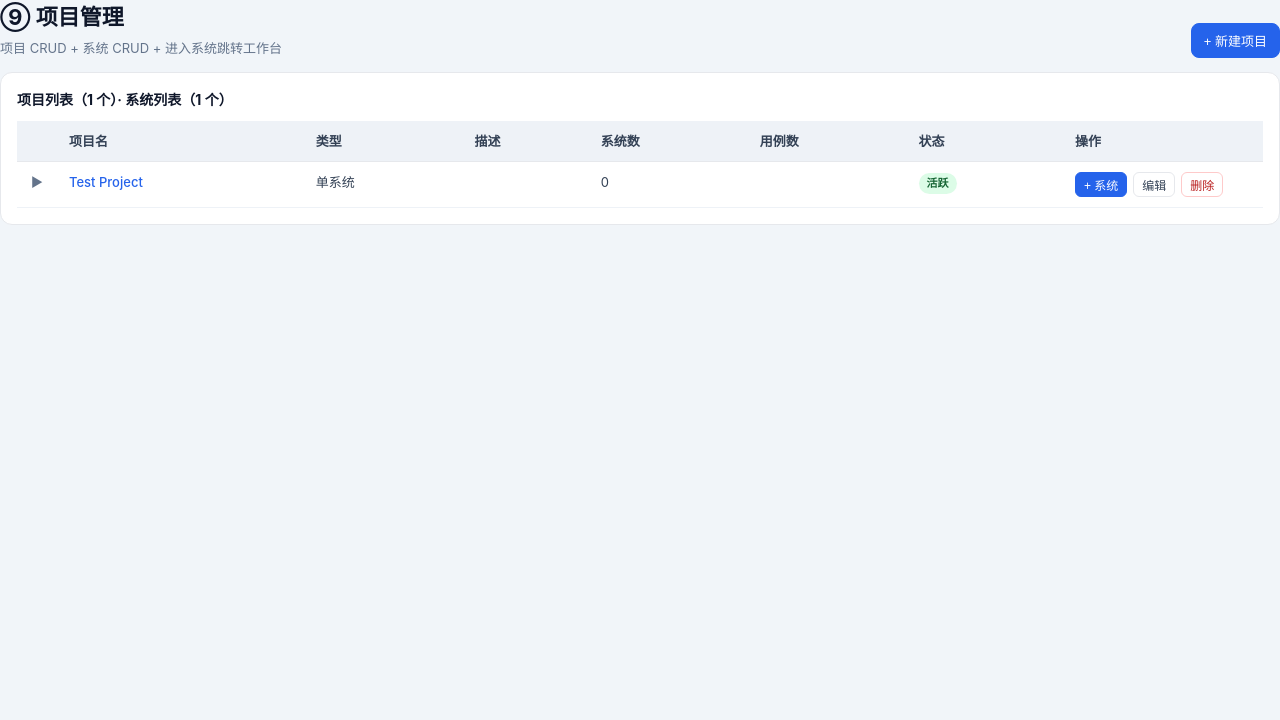
Test: ProjectMgmt 项目管理 › 选择子系统类型应显示父门户选项
Click the button "+ 系统": click(1101, 185) [1075,172,1127,197]
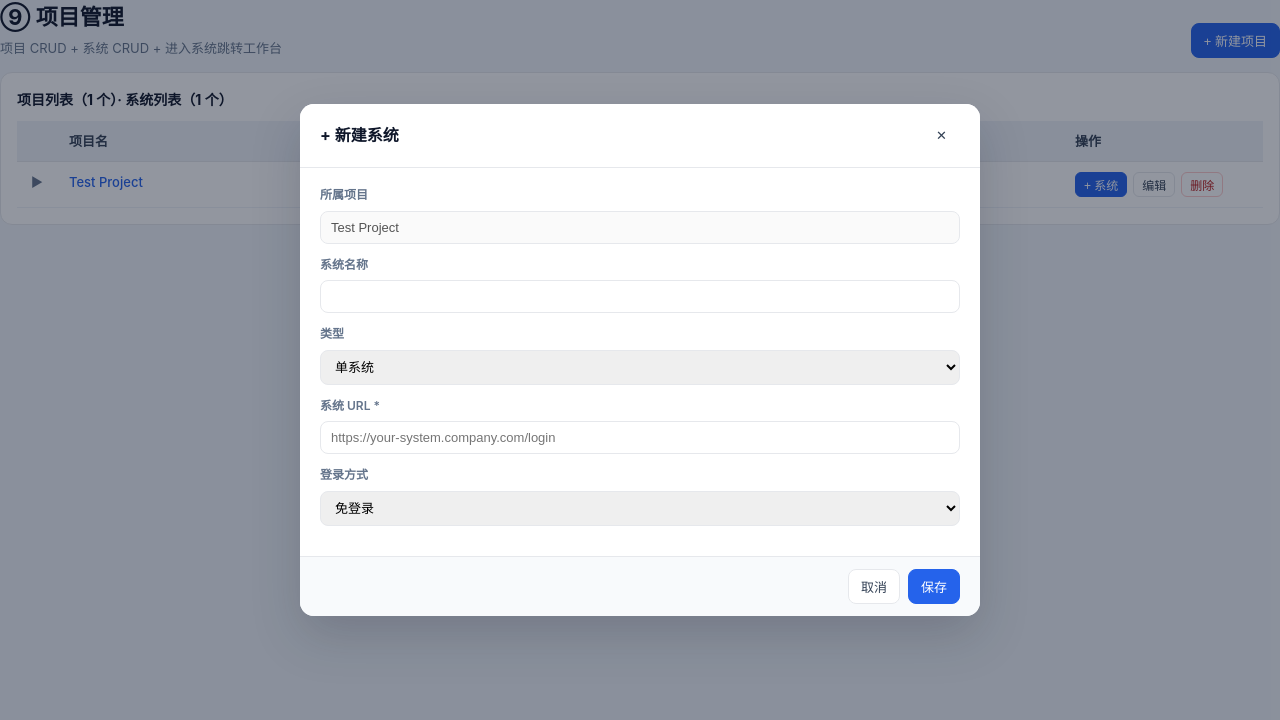
Select "子系统" in the 1st dropdown: (640, 367) [320,350,960,385]
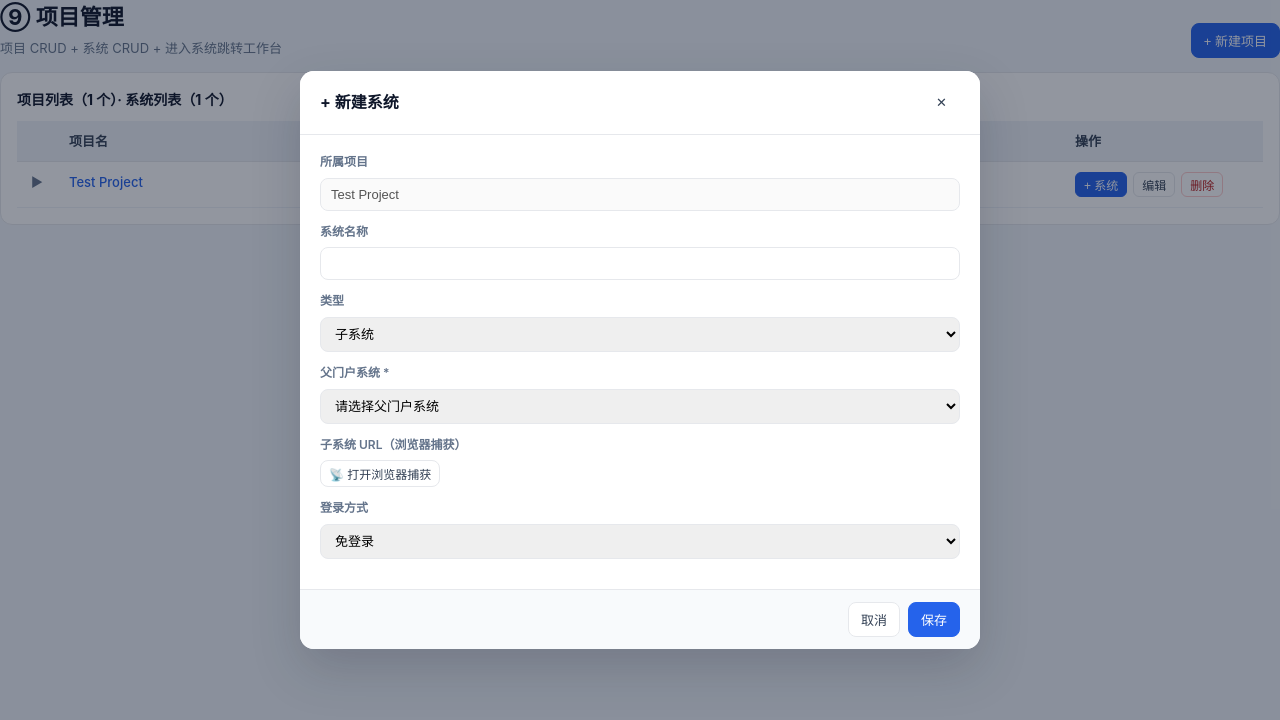
Result: the text "父门户系统 *" is shown at [320,365,390,380]
